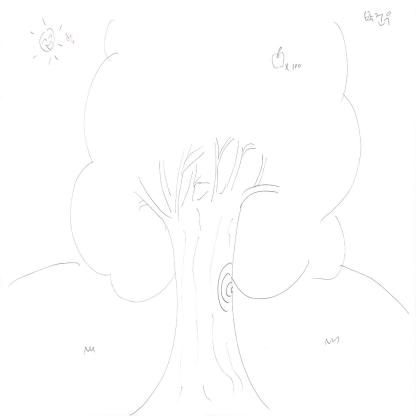apple: (271, 42, 286, 70)
branch_cut: (134, 132, 280, 228)
crown_cloud: (69, 4, 364, 305)
knot: (215, 254, 238, 315)
trunk_bark: (165, 234, 247, 372)
